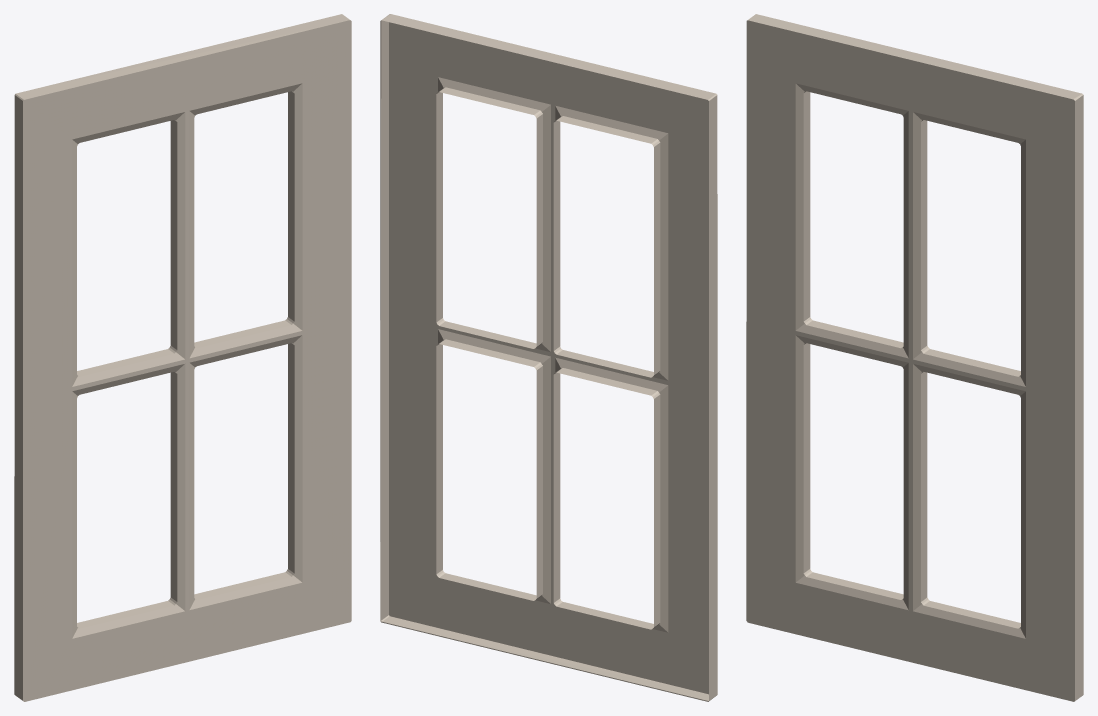
File: NRD CAM 100.glb
3 views of the same model, side by side, from view 1: azimuth 30°, elevation 25°; view 2: azimuth 150°, elevation 25°; view 3: azimuth 330°, elevation 25° (orthographic).
Parts seen in each view (by area): view 1: NRD CAM 100; view 2: NRD CAM 100; view 3: NRD CAM 100.
Boxes of the visible parts, x1,y1,x2,y2 form: NRD CAM 100: (14, 14, 351, 701); NRD CAM 100: (380, 14, 717, 701); NRD CAM 100: (746, 14, 1083, 701).
Bounding box in the file's own units: 0.3994 × 0.6999 × 0.018.
